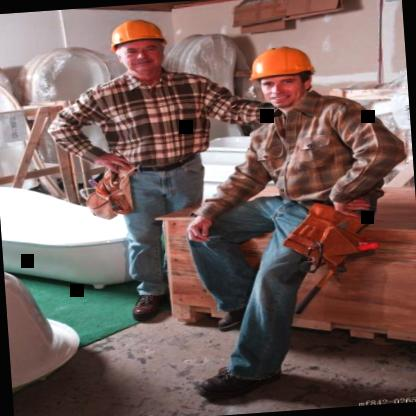helmet: (241, 42, 323, 110), (101, 11, 176, 82)
